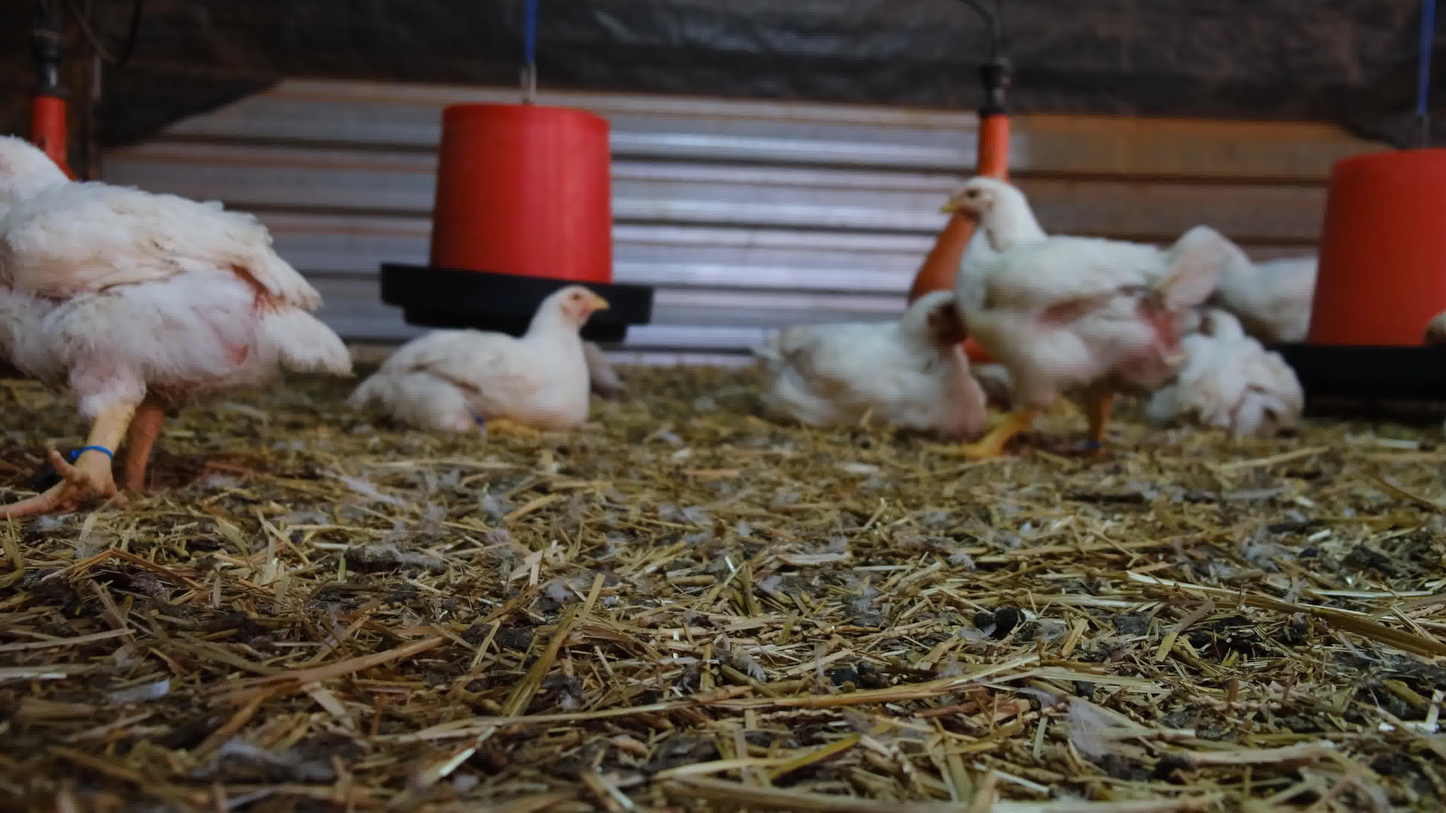AbNormal: (360, 269, 616, 461), (753, 275, 994, 452), (1177, 297, 1312, 452)
Normal: (0, 96, 360, 516), (926, 171, 1201, 467), (1194, 207, 1341, 339)
